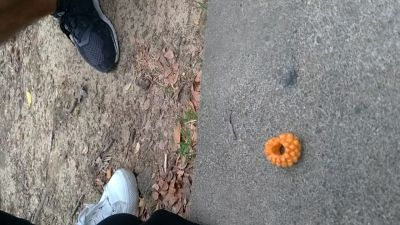eggs: (260, 130, 304, 168)
